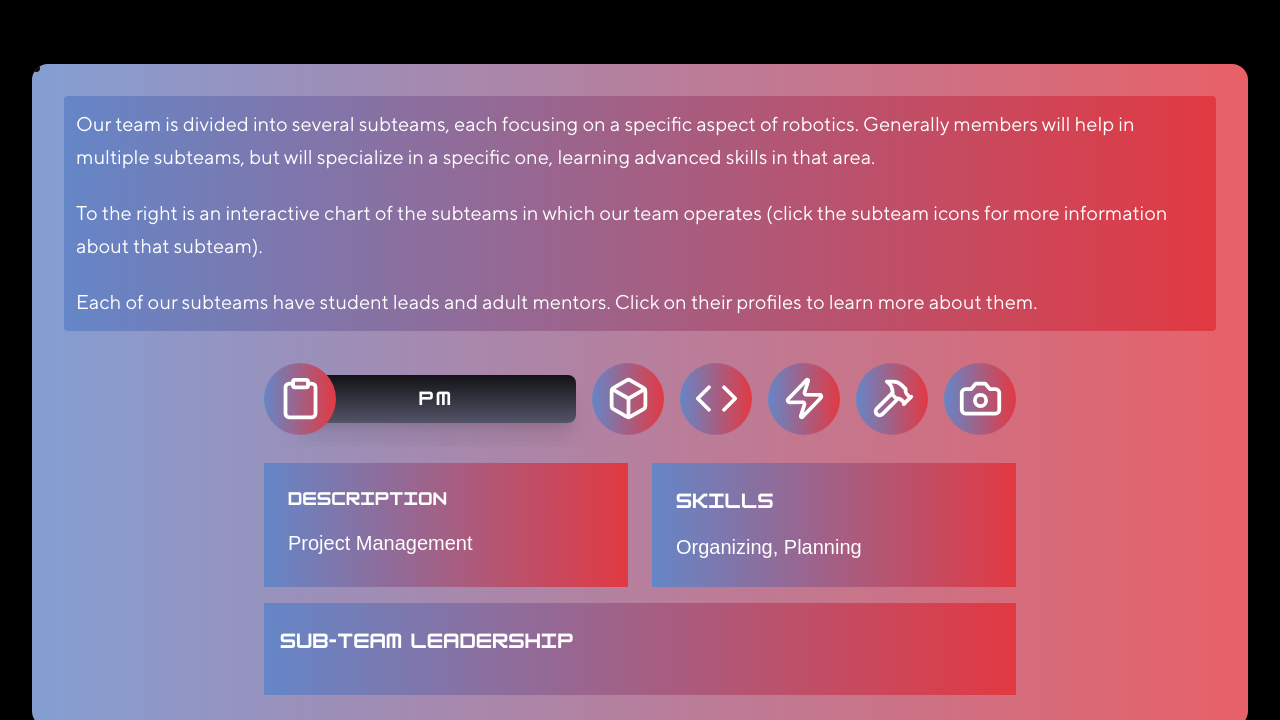
Test case: SubteamSection › changes the active team when a new team is clicked
Expected: the text "Project Management" is shown, [288,532,472,554]
Note: Find the button for the 'CAD' team and click it
Click the button with test id "subteam-button-cad" at (628, 398), box [592,362,664,434]
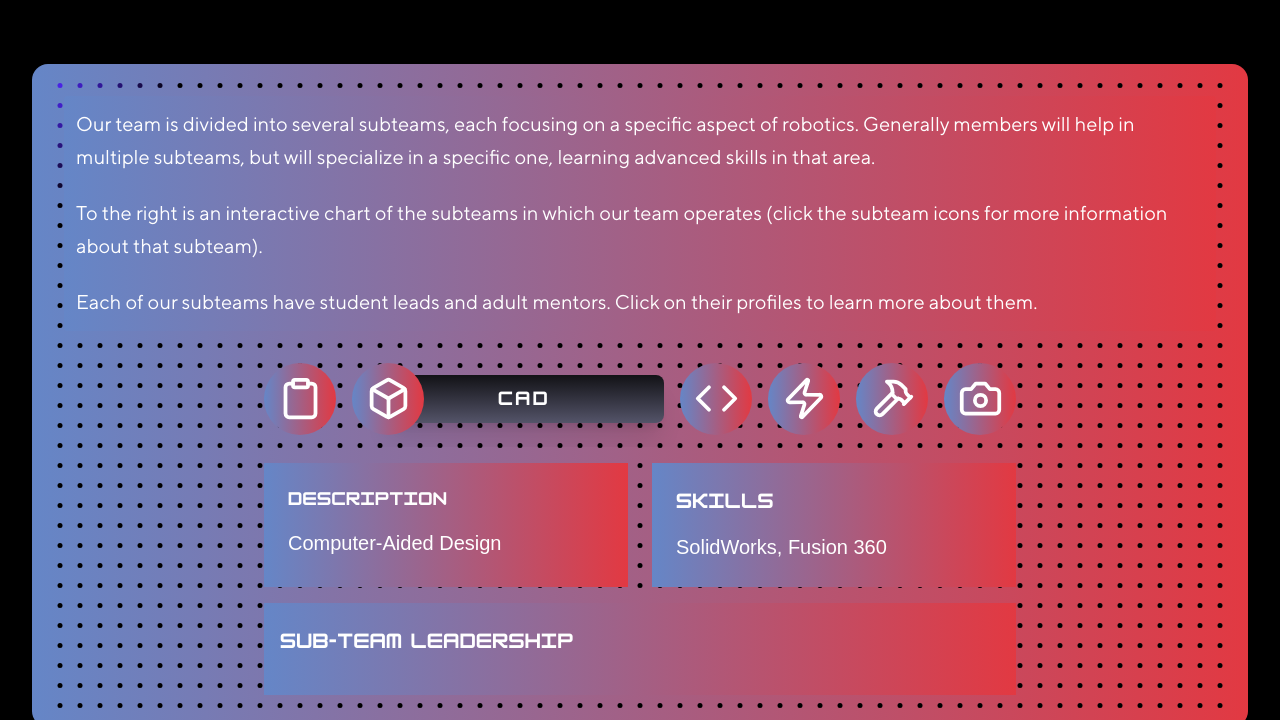
Now the text "Computer-Aided Design" is shown, box [288,532,501,554]
